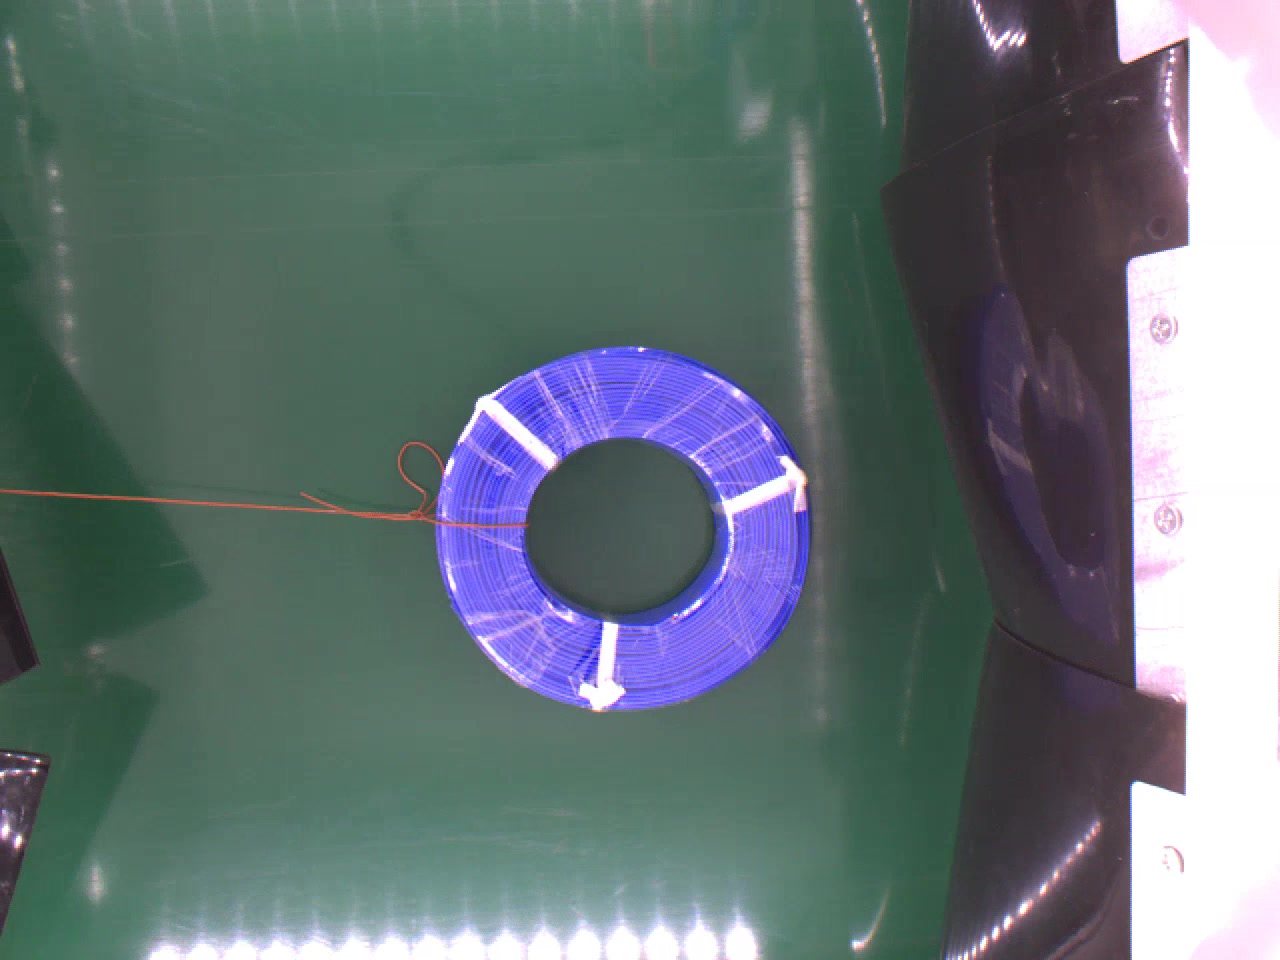blue: (441, 349, 819, 708)
